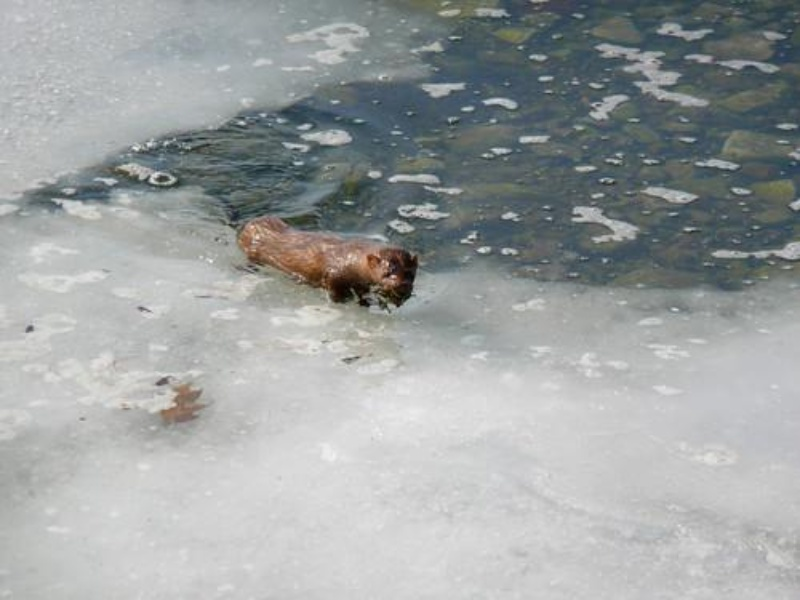minkish: (234, 214, 423, 309)
